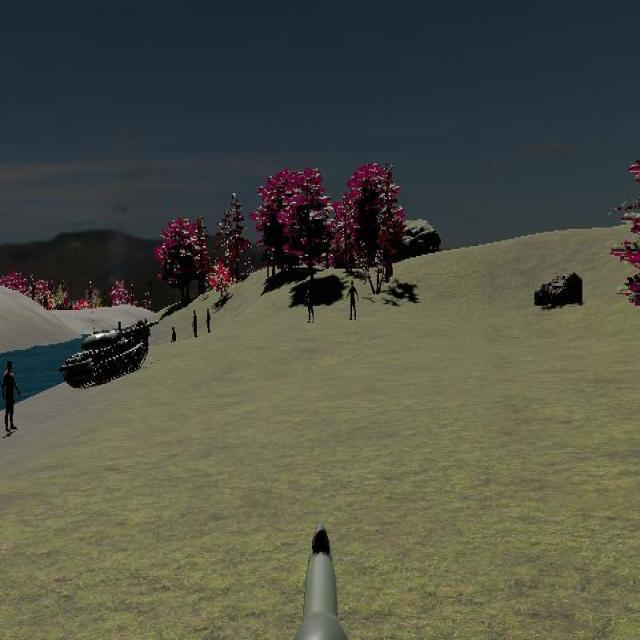Tank: (60, 318, 158, 389)
